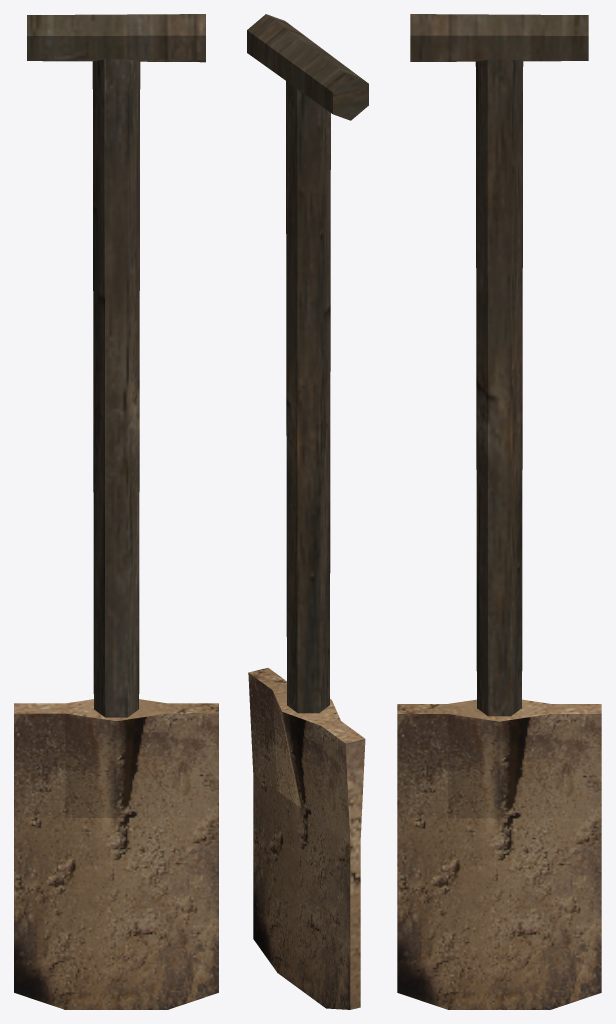
The model's file is Shovel.fbx.
3 views of the same model, side by side, from view 1: azimuth 90°, elevation 25°; view 2: azimuth 210°, elevation 25°; view 3: azimuth 270°, elevation 25° (orthographic). The views are drawn at different scales.
Visible parts, largest first — view 1: Cylinder; view 2: Cylinder; view 3: Cylinder.
Boxes of the visible parts, left/top/right/bottom form: Cylinder: left=14, top=14, right=218, bottom=1009; Cylinder: left=247, top=14, right=368, bottom=1009; Cylinder: left=397, top=14, right=601, bottom=1009.
Size of the model in its own units: 13.87 by 252 by 47.09.
1 material, 1 textured.
